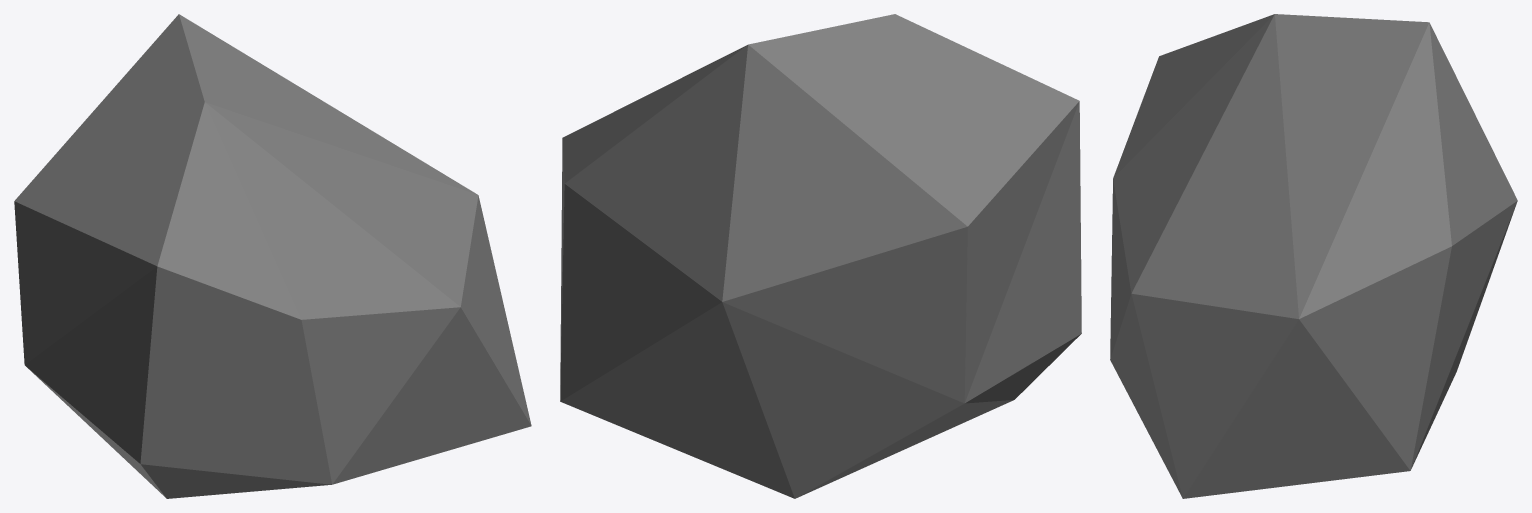
File: Ore_Rock.fbx
The picture shows the model from 3 angles, left to right: view 1: azimuth 30°, elevation 25°; view 2: azimuth 150°, elevation 25°; view 3: azimuth 270°, elevation 25°; orthographic projection. The views are drawn at different scales.
Parts seen in each view (by area): view 1: Ore_Rock; view 2: Ore_Rock; view 3: Ore_Rock.
Boxes of the visible parts, box(x1,y1,x2,y2) form: Ore_Rock: box(14, 14, 531, 498); Ore_Rock: box(560, 14, 1081, 498); Ore_Rock: box(1110, 14, 1517, 498).
Size of the model in its own units: 169 by 149 by 147.
